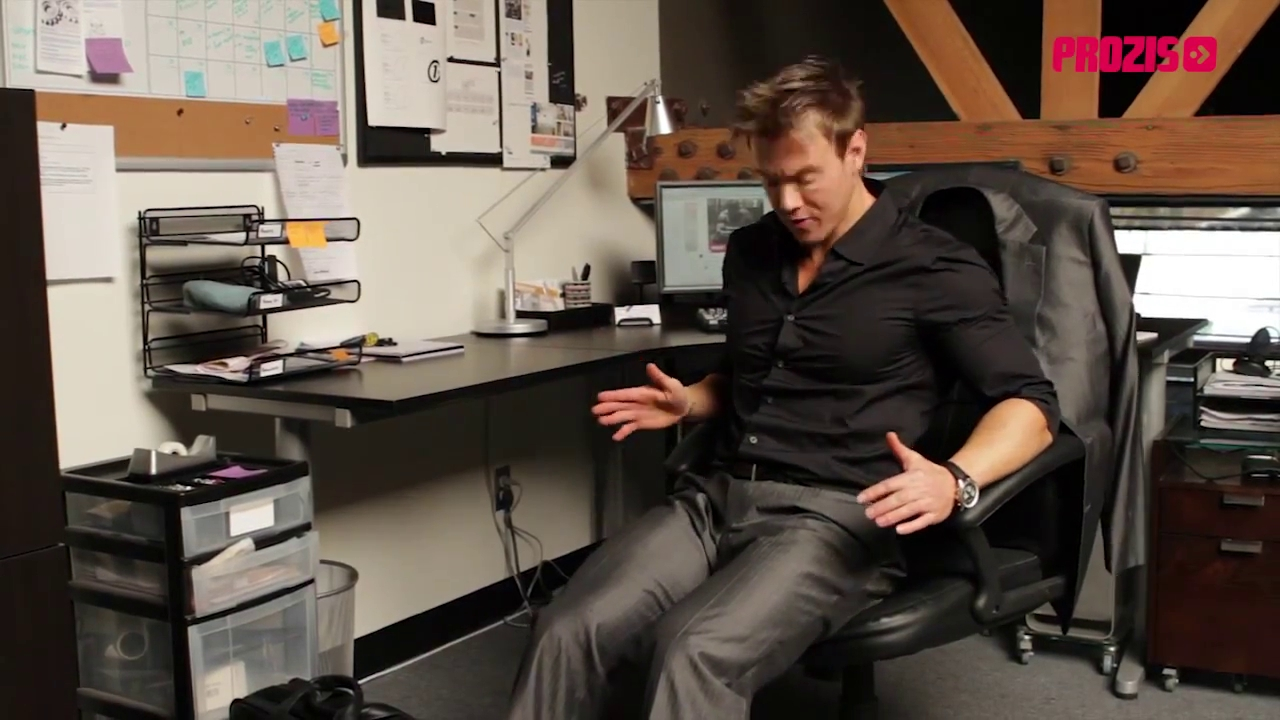person: (504, 58, 1061, 720)
